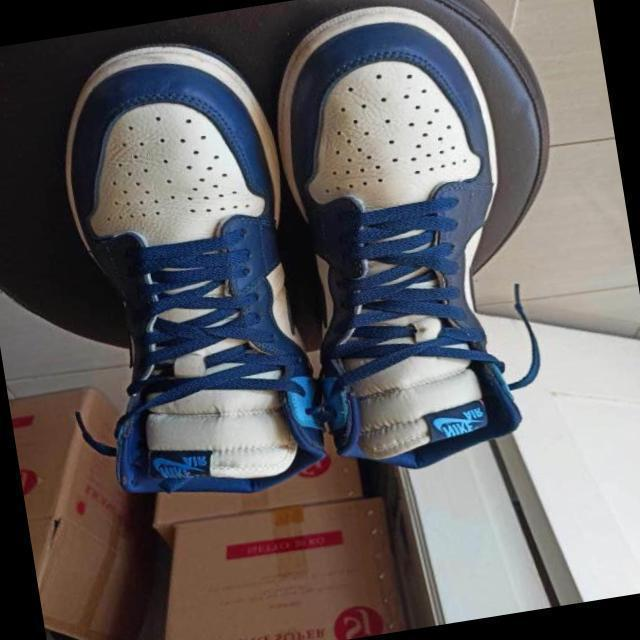nike original jordan 1: (36, 26, 338, 514), (253, 0, 539, 485)
